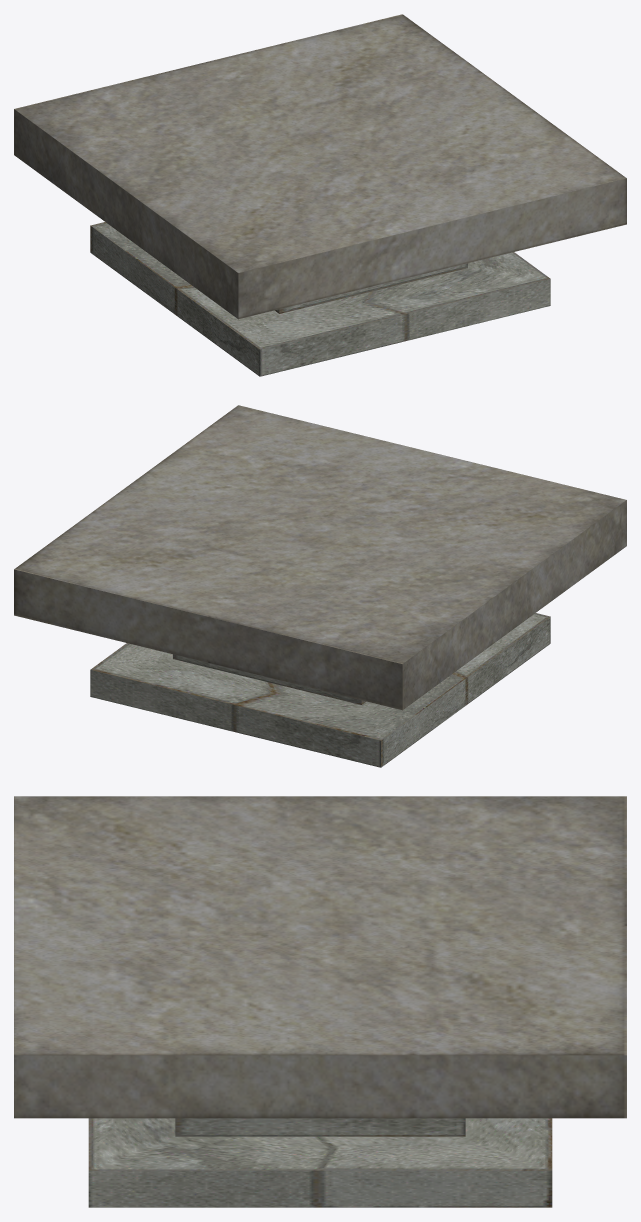
Rendered from altar_lrg.fbx.
The picture shows the model from 3 angles, top to bottom: view 1: azimuth 30°, elevation 25°; view 2: azimuth 150°, elevation 25°; view 3: azimuth 270°, elevation 25°; orthographic projection. The views are drawn at different scales.
Parts seen in each view (by area): view 1: alter_lrg; view 2: alter_lrg; view 3: alter_lrg.
Boxes of the visible parts, x1,y1,x2,y2 form: alter_lrg: (14, 14, 626, 376); alter_lrg: (14, 405, 626, 767); alter_lrg: (14, 796, 626, 1207).
Size of the model in its own units: 150 by 50 by 150.
